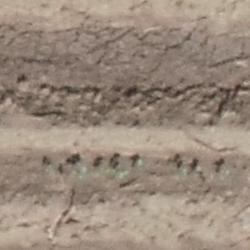cotton: (220, 164, 227, 172), (76, 161, 83, 168), (120, 169, 127, 175), (137, 158, 142, 164), (195, 164, 200, 170), (182, 167, 187, 172)
